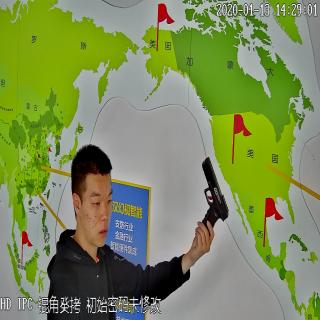gun: (200, 157, 227, 230)
